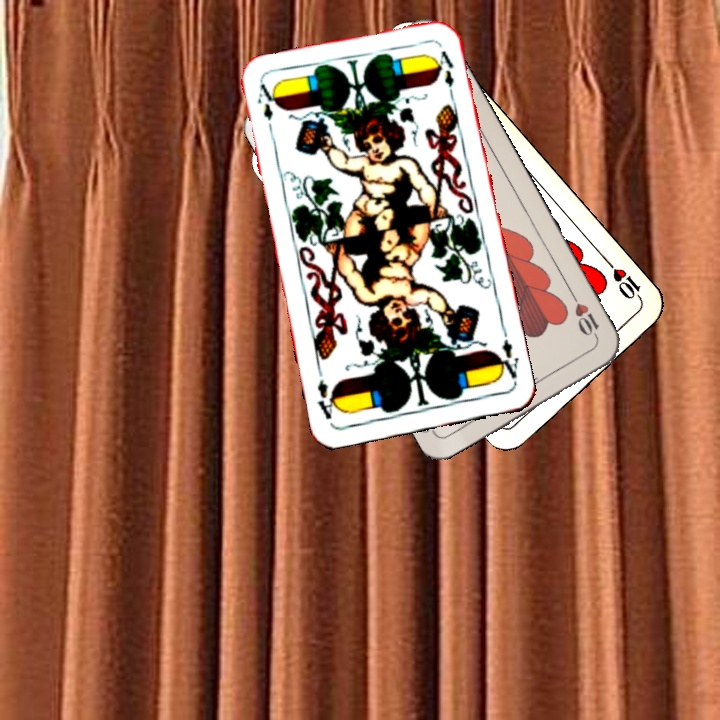EA: (492, 326, 521, 385), (253, 79, 278, 139)
H10: (602, 256, 646, 305), (567, 290, 602, 345)
